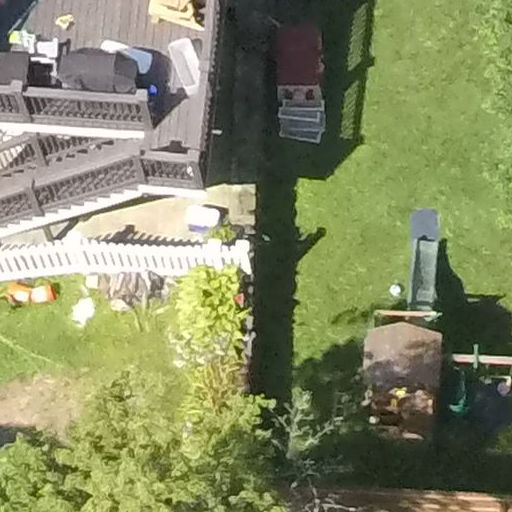barbecue: (55, 45, 150, 95)
bucket: (3, 277, 34, 308), (27, 278, 57, 310)
container: (162, 38, 203, 107), (26, 279, 65, 306), (2, 277, 34, 309)
porch: (2, 1, 229, 231)
